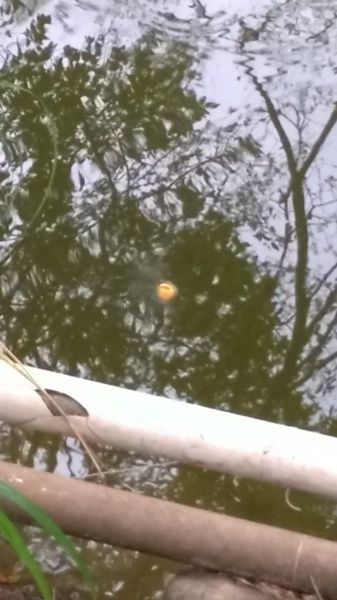eggs: (152, 278, 181, 303)
